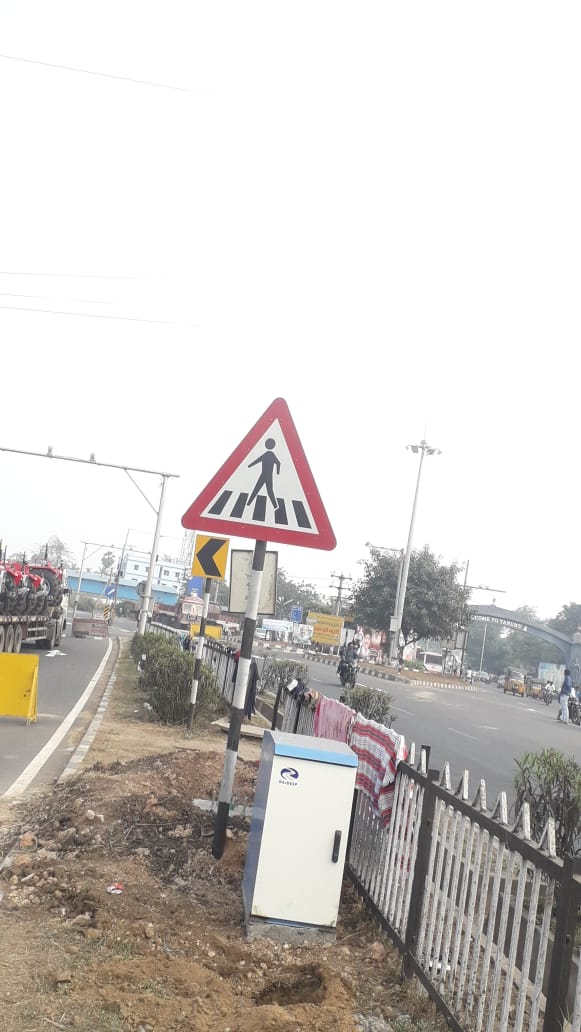pedestrian crossing: (171, 373, 343, 562)
